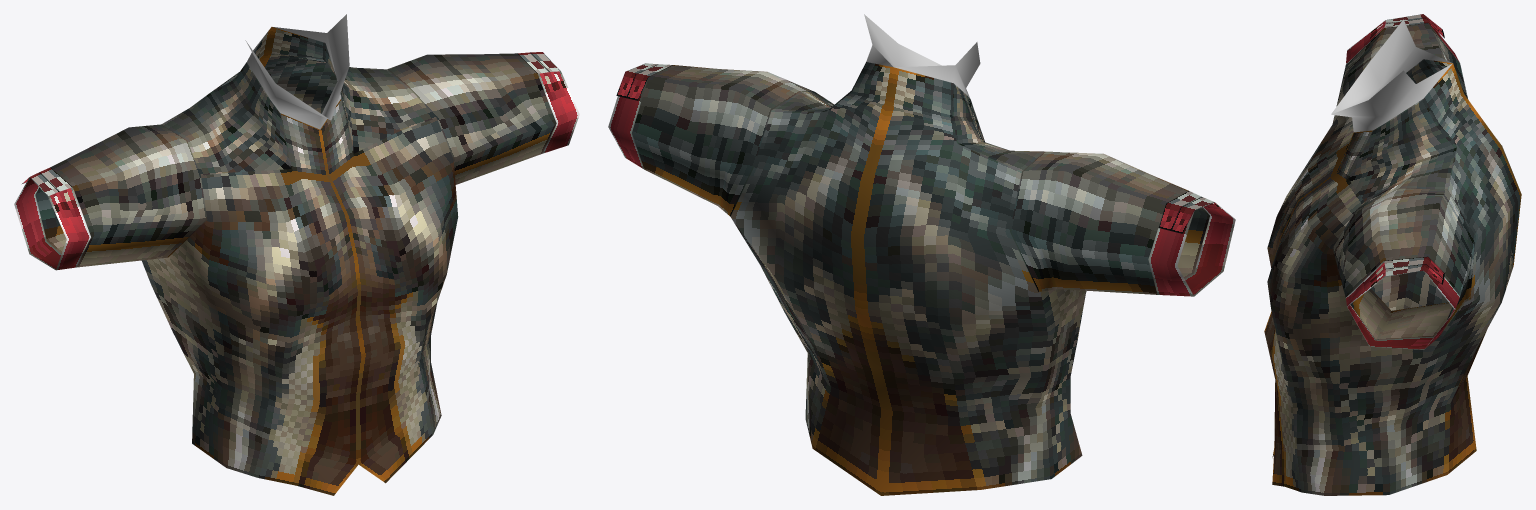
The model's file is m_plate032.obj.
The picture shows the model from 3 angles, left to right: view 1: azimuth 30°, elevation 25°; view 2: azimuth 150°, elevation 25°; view 3: azimuth 270°, elevation 25°; orthographic projection. The views are drawn at different scales.
Visible parts, largest first — view 1: mesh00, mesh01; view 2: mesh00, mesh01; view 3: mesh00, mesh01.
Boxes of the visible parts, x1=… form: mesh00: x1=14, y1=27, x2=579, y2=495; mesh01: x1=245, y1=14, x2=349, y2=129; mesh00: x1=608, y1=62, x2=1235, y2=495; mesh01: x1=864, y1=14, x2=980, y2=98; mesh00: x1=1264, y1=14, x2=1521, y2=495; mesh01: x1=1331, y1=19, x2=1452, y2=132.
Size of the model in its own units: 72 by 55.84 by 30.5.
